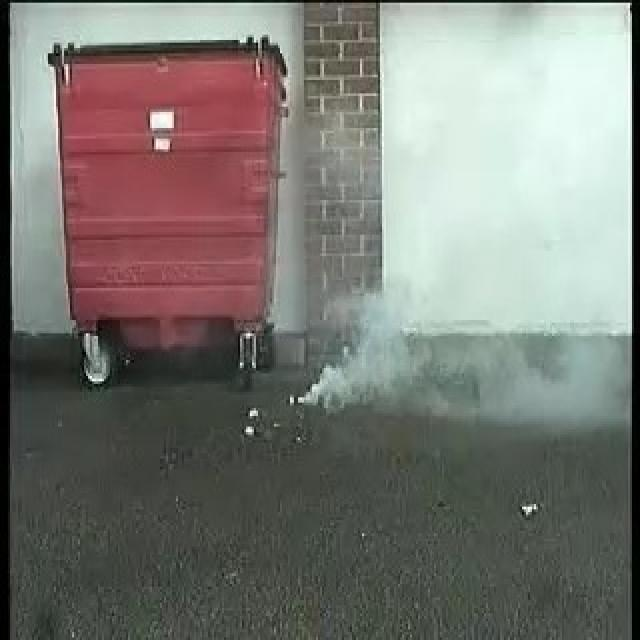smoke: (293, 258, 455, 414)
